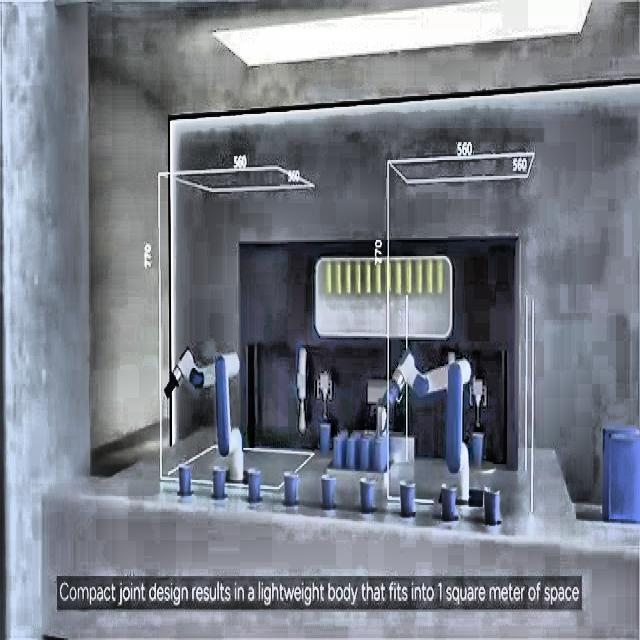robot: (376, 343, 478, 510), (163, 345, 244, 482)
